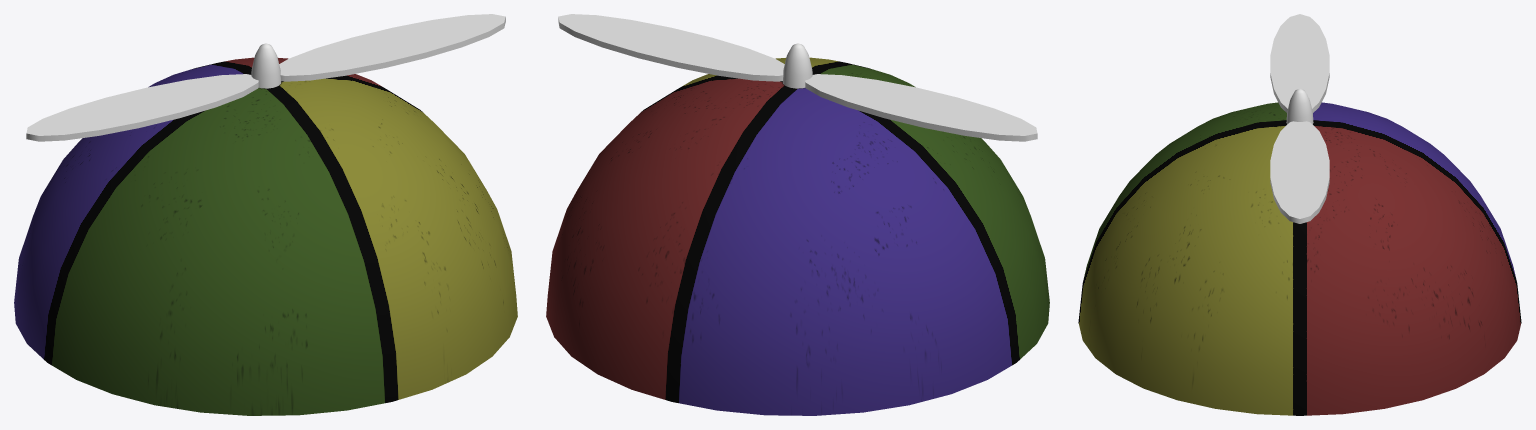
The model's file is Helicopter_Hat.FBX.
3 views of the same model, side by side, from view 1: azimuth 30°, elevation 25°; view 2: azimuth 150°, elevation 25°; view 3: azimuth 270°, elevation 25° (orthographic). The views are drawn at different scales.
Parts seen in each view (by area): view 1: Sphere001, Cylinder002, Cylinder003, Sphere002; view 2: Sphere001, Cylinder002, Cylinder003, Sphere002; view 3: Sphere001, Cylinder003, Cylinder002, Sphere002.
Part boxes in pixels (box(x1,y1,x2,y2)): Sphere001: box(14, 57, 517, 415); Cylinder002: box(26, 74, 258, 141); Cylinder003: box(279, 14, 505, 81); Sphere002: box(251, 43, 281, 88); Sphere001: box(546, 57, 1049, 415); Cylinder002: box(805, 74, 1037, 141); Cylinder003: box(558, 14, 784, 81); Sphere002: box(782, 43, 812, 88); Sphere001: box(1078, 102, 1521, 415); Cylinder003: box(1270, 121, 1329, 223); Cylinder002: box(1270, 14, 1329, 112); Sphere002: box(1286, 89, 1313, 124).
Bounding box in the file's own units: 17.53 × 9.31 × 16.
1 material, 1 textured.
